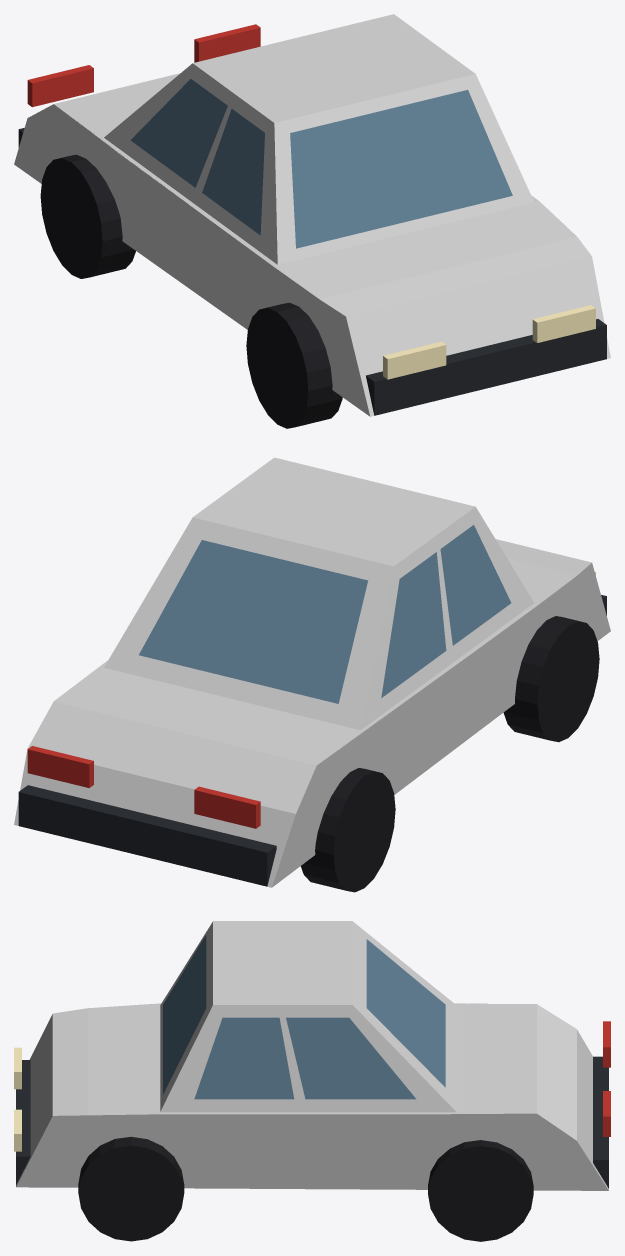
The model's file is city_car.glb.
3 views of the same model, one above another, from view 1: azimuth 30°, elevation 25°; view 2: azimuth 150°, elevation 25°; view 3: azimuth 270°, elevation 25° (orthographic). The views are drawn at different scales.
Visible parts, largest first — view 1: body, cabin, glass_screen, bumper_nose, wheel_1_L_tyre, wheel_0_L_tyre, glass_side_0_L, glass_side_1_L, tail_L, head_R, head_L, tail_R; view 2: body, cabin, glass_back, bumper_tail, wheel_1_L_tyre, wheel_0_L_tyre, glass_side_0_L, glass_side_1_L, tail_L, tail_R; view 3: body, cabin, wheel_1_R_tyre, wheel_0_R_tyre, glass_side_0_R, glass_side_1_R, glass_back, glass_screen, bumper_tail, bumper_nose.
Part boxes in pixels (bbox=[...]): body: bbox=[14, 73, 610, 416]; cabin: bbox=[104, 14, 533, 264]; glass_screen: bbox=[290, 90, 512, 248]; bumper_nose: bbox=[366, 319, 606, 415]; wheel_1_L_tyre: bbox=[246, 302, 342, 428]; wheel_0_L_tyre: bbox=[40, 154, 135, 278]; glass_side_0_L: bbox=[130, 79, 227, 187]; glass_side_1_L: bbox=[202, 109, 264, 235]; tail_L: bbox=[27, 65, 93, 107]; head_R: bbox=[532, 305, 595, 342]; head_L: bbox=[383, 341, 446, 379]; tail_R: bbox=[194, 24, 260, 62]; body: bbox=[14, 539, 610, 887]; cabin: bbox=[104, 457, 533, 730]; glass_back: bbox=[139, 540, 368, 703]; bumper_tail: bbox=[18, 785, 276, 886]; wheel_1_L_tyre: bbox=[503, 616, 599, 742]; wheel_0_L_tyre: bbox=[300, 768, 395, 892]; glass_side_0_L: bbox=[381, 552, 446, 697]; glass_side_1_L: bbox=[440, 525, 511, 645]; tail_L: bbox=[194, 786, 260, 828]; tail_R: bbox=[27, 746, 93, 787]; body: bbox=[16, 1003, 608, 1190]; cabin: bbox=[160, 921, 456, 1112]; wheel_1_R_tyre: bbox=[78, 1136, 184, 1241]; wheel_0_R_tyre: bbox=[428, 1140, 533, 1241]; glass_side_0_R: bbox=[286, 1017, 415, 1099]; glass_side_1_R: bbox=[194, 1017, 294, 1099]; glass_back: bbox=[366, 939, 445, 1087]; glass_screen: bbox=[163, 935, 206, 1094]; bumper_tail: bbox=[593, 1056, 608, 1188]; bumper_nose: bbox=[16, 1060, 30, 1184].
Size of the model in its own units: 1.8 by 1.5 by 3.72.
